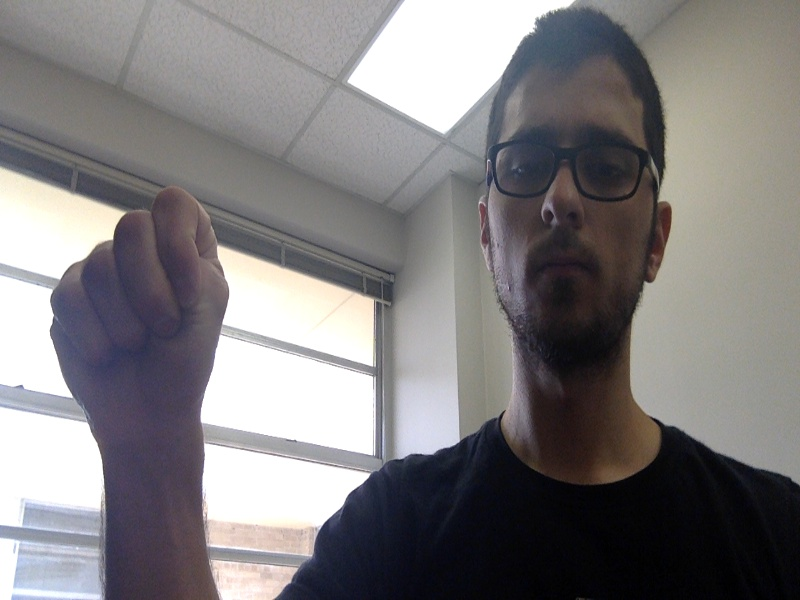0-hand: (49, 188, 230, 432)
